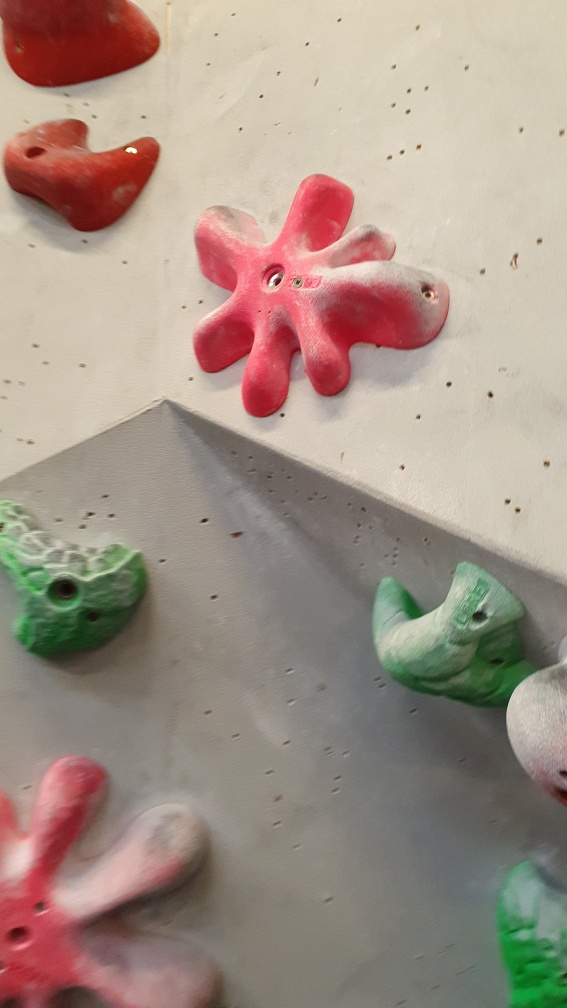Jug: (365, 560, 542, 721), (490, 857, 566, 1008)
Octopus Pinch: (187, 172, 451, 421), (1, 746, 218, 1007)
Sloper: (506, 651, 567, 821)
